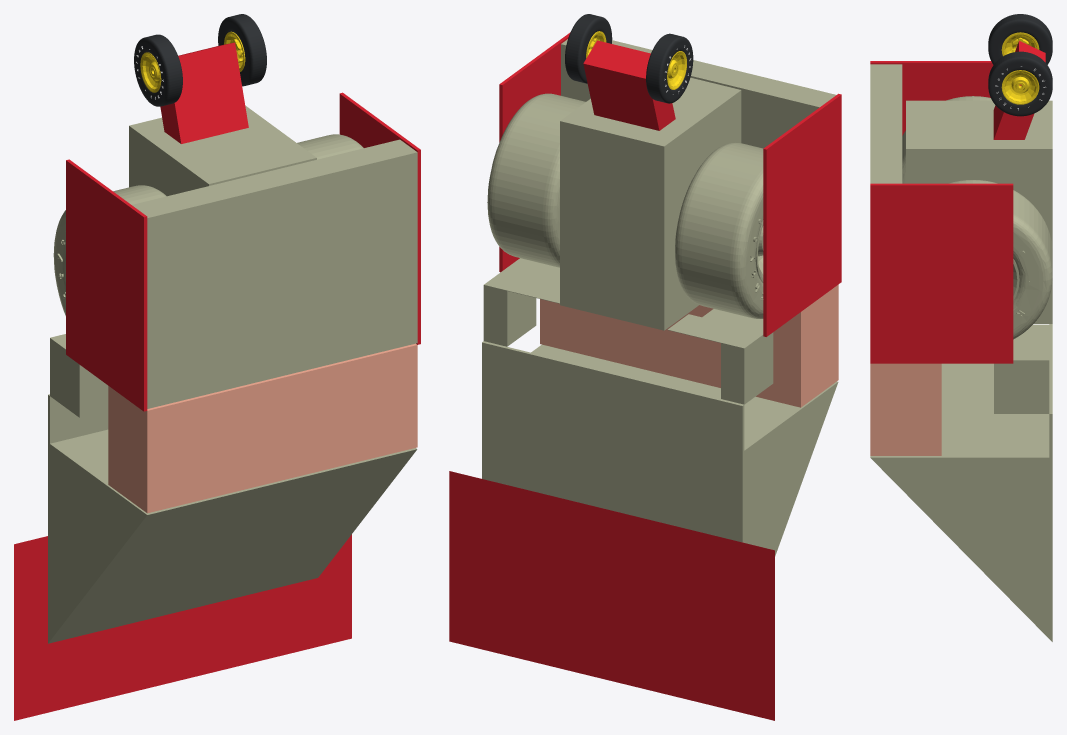
Rendered from tinker.obj.
3 views of the same model, side by side, from view 1: azimuth 30°, elevation 25°; view 2: azimuth 150°, elevation 25°; view 3: azimuth 270°, elevation 25° (orthographic). The views are drawn at different scales.
Visible parts, largest first — view 1: obj_0, obj_2, obj_1, obj_4, obj_5, obj_7, obj_3, obj_6; view 2: obj_0, obj_1, obj_4, obj_2, obj_5, obj_3, obj_7, obj_6; view 3: obj_0, obj_3, obj_2, obj_4, obj_6, obj_7, obj_5.
Boxes of the visible parts, left/top/right/bottom form: obj_0: left=48, top=105, right=417, bottom=643; obj_2: left=108, top=343, right=417, bottom=513; obj_1: left=14, top=534, right=351, bottom=720; obj_4: left=66, top=159, right=147, bottom=411; obj_5: left=160, top=42, right=248, bottom=143; obj_7: left=134, top=34, right=182, bottom=106; obj_3: left=339, top=92, right=420, bottom=344; obj_6: left=218, top=14, right=266, bottom=86; obj_0: left=482, top=39, right=838, bottom=556; obj_1: left=449, top=471, right=774, bottom=720; obj_4: left=763, top=93, right=841, bottom=336; obj_2: left=540, top=284, right=838, bottom=407; obj_5: left=583, top=40, right=675, bottom=130; obj_3: left=499, top=32, right=570, bottom=272; obj_7: left=646, top=33, right=693, bottom=103; obj_6: left=565, top=14, right=612, bottom=83; obj_0: left=870, top=64, right=1052, bottom=641; obj_3: left=870, top=183, right=1013, bottom=363; obj_2: left=870, top=363, right=941, bottom=455; obj_4: left=870, top=61, right=993, bottom=135; obj_6: left=988, top=51, right=1052, bottom=116; obj_7: left=988, top=14, right=1052, bottom=64; obj_5: left=993, top=40, right=1045, bottom=139.
Bounding box in the file's own units: 100 × 188 × 51.01.
